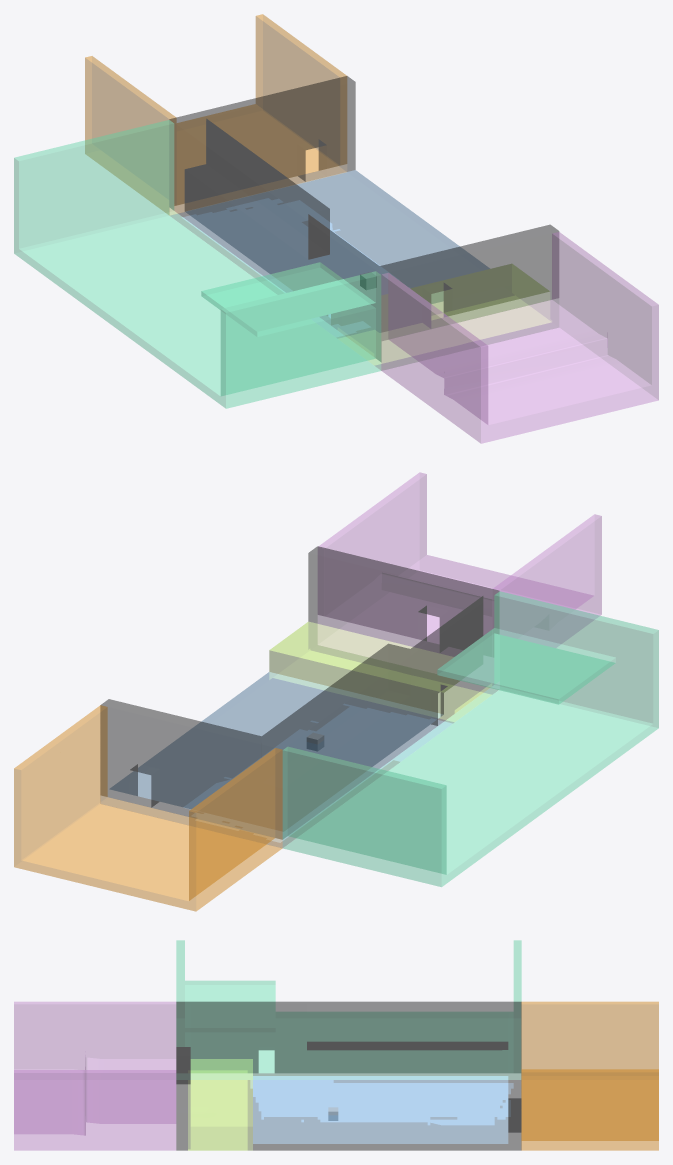
File: Rooms.glb
The picture shows the model from 3 angles, top to bottom: view 1: azimuth 30°, elevation 25°; view 2: azimuth 150°, elevation 25°; view 3: azimuth 270°, elevation 25°; orthographic projection. The views are drawn at different scales.
Visible parts, largest first — view 1: roomUpdated; view 2: roomUpdated; view 3: roomUpdated.
Part boxes in pixels (x1,y1,x2,y2): roomUpdated: (14, 14, 658, 443); roomUpdated: (14, 472, 658, 911); roomUpdated: (14, 940, 658, 1150).
Bounding box in the file's own units: 61.57 × 18.24 × 127.
